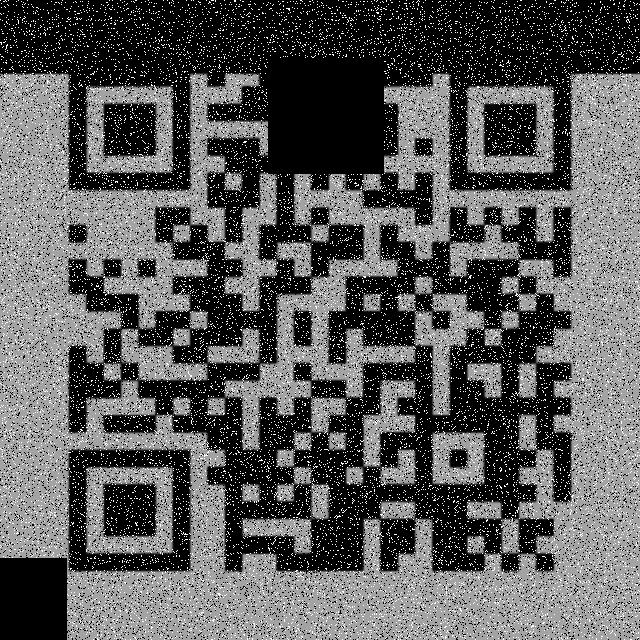QR_CODE: (46, 35, 602, 595)
